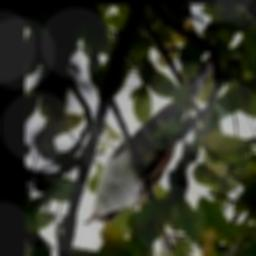Cuckoo: (85, 57, 217, 226)
